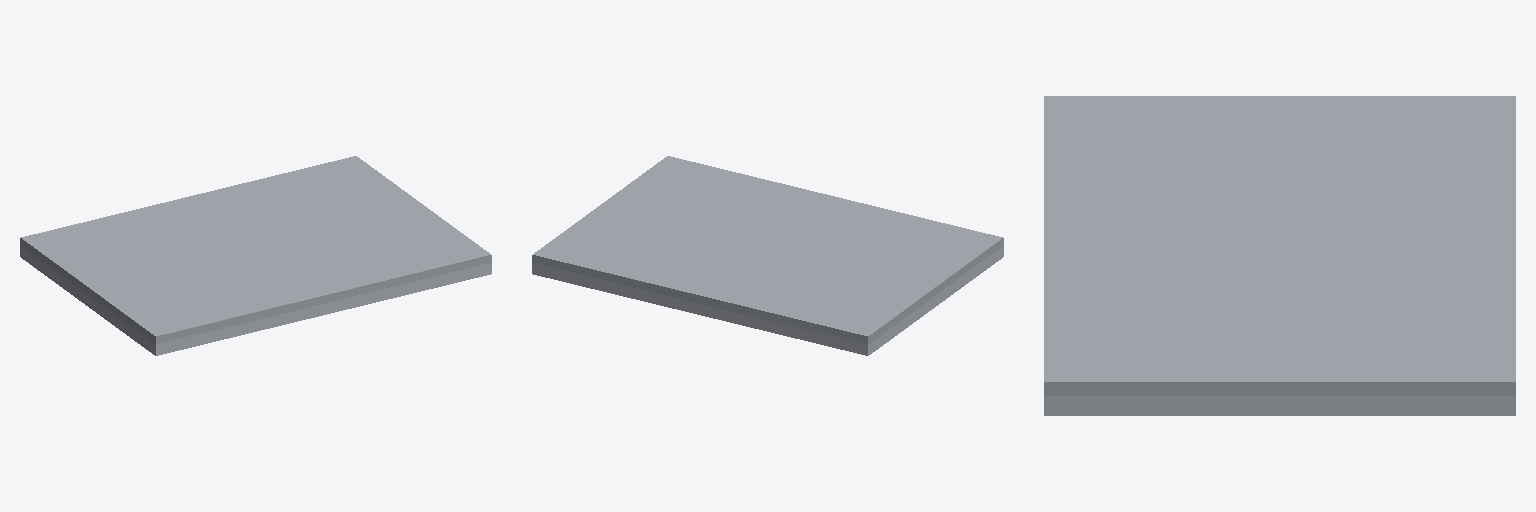
URDF robot description (macbook_laptop):
<?xml version="1.0"?>
<robot name="macbook_laptop">
  <link name="world"/>

  <link name="base">
    <inertial>
      <origin xyz="0 0 0" rpy="0 0 0"/>
      <mass value="1.0"/>
      <inertia ixx="0.00375" ixy="0" ixz="0" iyy="0.00770" iyz="0" izz="0.01145"/>
    </inertial>
    <visual>
      <origin xyz="0 0 0" rpy="0 0 0"/>
      <geometry>
        <box size="0.304 0.212 0.01"/>
      </geometry>
      <material name="silver">
        <color rgba="0.75 0.77 0.80 1.0"/>
      </material>
    </visual>
    <collision>
      <origin xyz="0 0 0" rpy="0 0 0"/>
      <geometry>
        <box size="0.304 0.212 0.01"/>
      </geometry>
    </collision>
  </link>

  <link name="display">
    <inertial>
      <origin xyz="0 0.106 0.0035" rpy="0 0 0"/>
      <mass value="0.4"/>
      <inertia ixx="0.00150" ixy="0" ixz="0" iyy="0.00308" iyz="0" izz="0.00458"/>
    </inertial>
    <visual>
      <origin xyz="0 0.106 0.0035" rpy="0 0 0"/>
      <geometry>
        <box size="0.304 0.212 0.007"/>
      </geometry>
      <material name="silver_dark">
        <color rgba="0.70 0.72 0.75 1.0"/>
      </material>
    </visual>
    <collision>
      <origin xyz="0 0.106 0.0035" rpy="0 0 0"/>
      <geometry>
        <box size="0.304 0.212 0.007"/>
      </geometry>
    </collision>
  </link>

  <joint name="base_free" type="floating">
    <parent link="world"/>
    <child link="base"/>
    <origin xyz="0 0 0.02" rpy="0 0 0"/>
  </joint>

  <!-- lid hinge at rear edge of base, axis along width (x) -->
  <!-- q=0 : closed flat on base, q=1.57 : open 90deg upright -->
  <joint name="lid_hinge" type="revolute">
    <parent link="base"/>
    <child link="display"/>
    <origin xyz="0 -0.106 0.005" rpy="0 0 0"/>
    <axis xyz="1 0 0"/>
    <limit lower="0.0" upper="2.09" effort="5.0" velocity="2.0"/>
  </joint>
</robot>

--- What the picture shows (computed from the rendered views, not written in the file) ---
3 views of the same robot in one strip: view 1: azimuth 30°, elevation 25°; view 2: azimuth 150°, elevation 25°; view 3: azimuth 270°, elevation 25° (orthographic).
Robot: macbook_laptop — 3 links, 2 joints (1 revolute, 1 floating); root link world; default pose: every joint at zero.
Links seen in each view (by area): view 1: display, base; view 2: display, base; view 3: display, base.
Boxes of the visible links, box(x1,y1,x2,y2) form: display: box(20, 156, 491, 344); base: box(20, 246, 491, 355); display: box(532, 156, 1003, 344); base: box(532, 246, 1003, 355); display: box(1044, 96, 1515, 395); base: box(1044, 396, 1515, 415).
Size in the robot's own frame: 0.304 by 0.212 by 0.017 metres.
Geometry: primitives only (box / cylinder / sphere), no mesh files.
